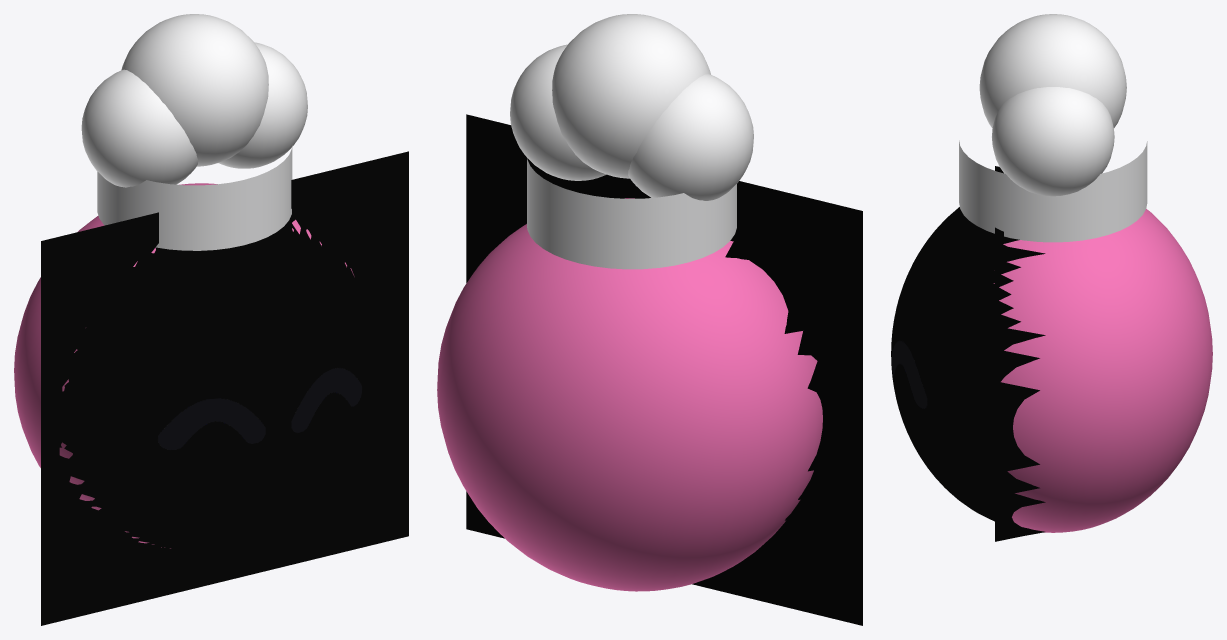
The model's file is social.glb.
3 views of the same model, side by side, from view 1: azimuth 30°, elevation 25°; view 2: azimuth 150°, elevation 25°; view 3: azimuth 270°, elevation 25° (orthographic). The views are drawn at different scales.
Visible parts, largest first — view 1: Social cook; view 2: Social cook; view 3: Social cook.
Part boxes in pixels (x1,y1,x2,y2): Social cook: (14,14,408,625); Social cook: (437,14,862,625); Social cook: (891,14,1212,541).
Bounding box in the file's own units: 2 × 2.79 × 1.57.
Materials: 3 (1 with a texture image).
